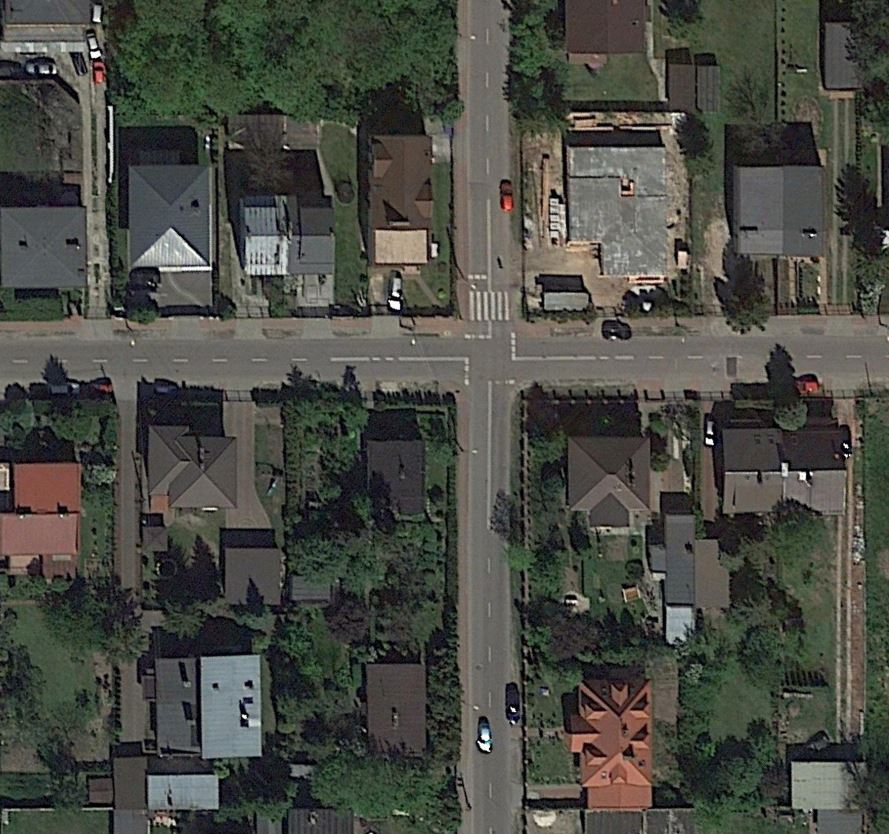family house: (557, 661, 669, 822), (143, 644, 283, 767), (711, 411, 860, 521), (113, 150, 229, 284), (356, 115, 454, 273), (724, 158, 838, 260), (555, 424, 658, 536), (1, 453, 92, 572), (1, 187, 95, 297), (142, 420, 247, 516), (351, 651, 439, 763), (232, 194, 342, 281), (357, 432, 437, 521)
